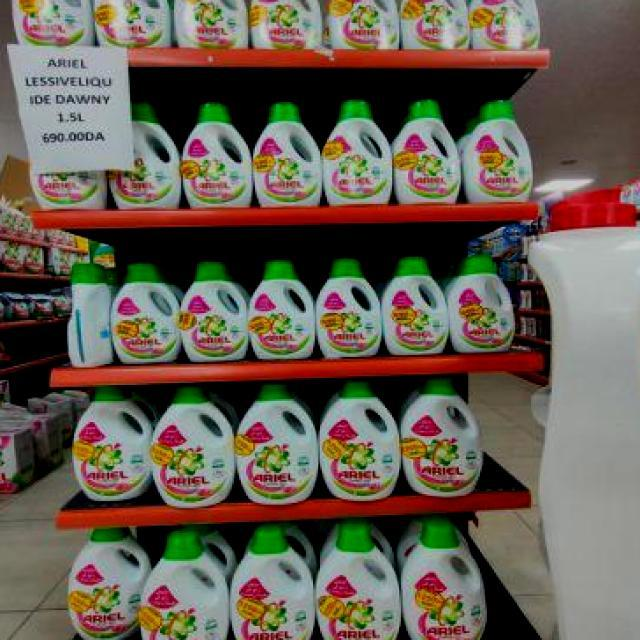Detergent: (396, 515, 498, 640), (121, 527, 229, 640), (228, 378, 319, 510), (225, 501, 311, 640), (145, 376, 231, 508), (452, 93, 555, 202), (56, 527, 155, 640), (308, 515, 396, 640), (74, 376, 156, 504), (404, 374, 487, 498), (321, 380, 404, 496), (180, 86, 254, 216), (112, 90, 188, 216), (388, 88, 466, 204), (108, 250, 184, 366), (318, 90, 391, 204), (244, 254, 320, 358), (379, 250, 451, 358), (313, 251, 387, 356), (444, 245, 514, 353), (254, 98, 323, 206), (177, 264, 250, 364), (0, 0, 102, 58), (172, 0, 251, 56), (90, 0, 176, 51), (465, 0, 543, 56), (314, 0, 399, 47), (246, 0, 330, 47), (401, 0, 475, 53)
